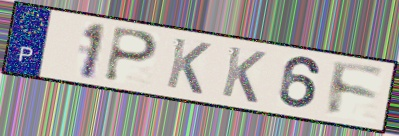1: (80, 21, 108, 82)
6: (277, 54, 322, 113)
F: (326, 58, 386, 119)
K: (163, 35, 214, 97), (219, 44, 269, 106)
P: (102, 24, 161, 85)
